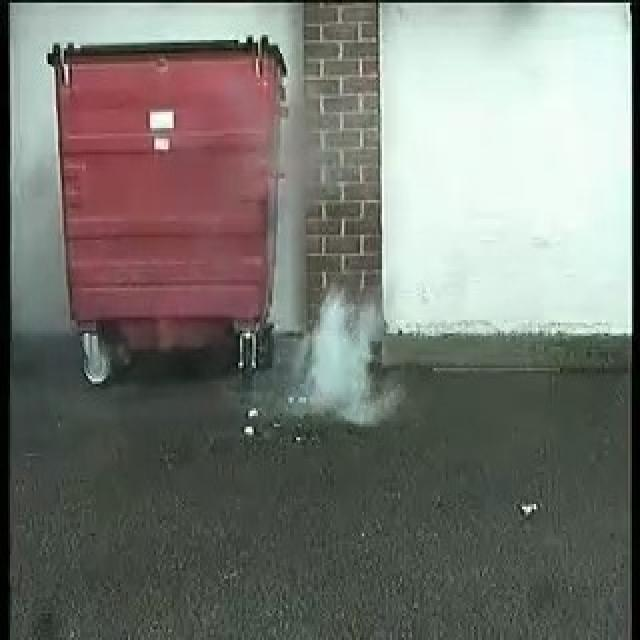smoke: (302, 292, 390, 431)
